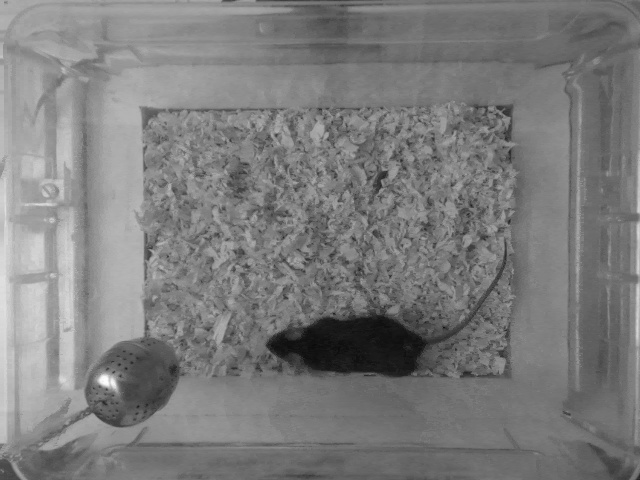mice: (263, 231, 514, 380)
